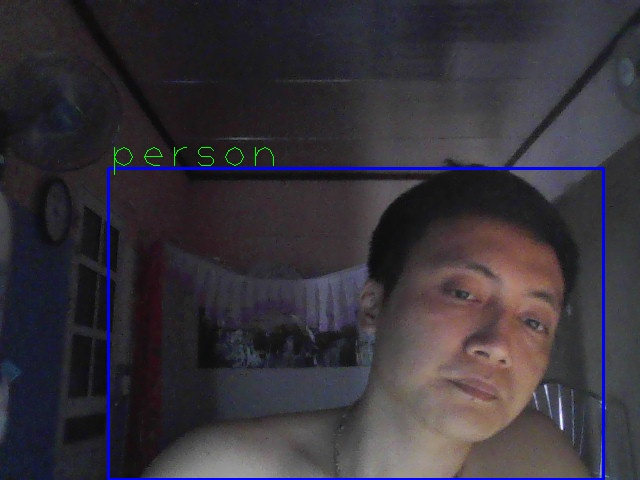person: (108, 168, 604, 480)
